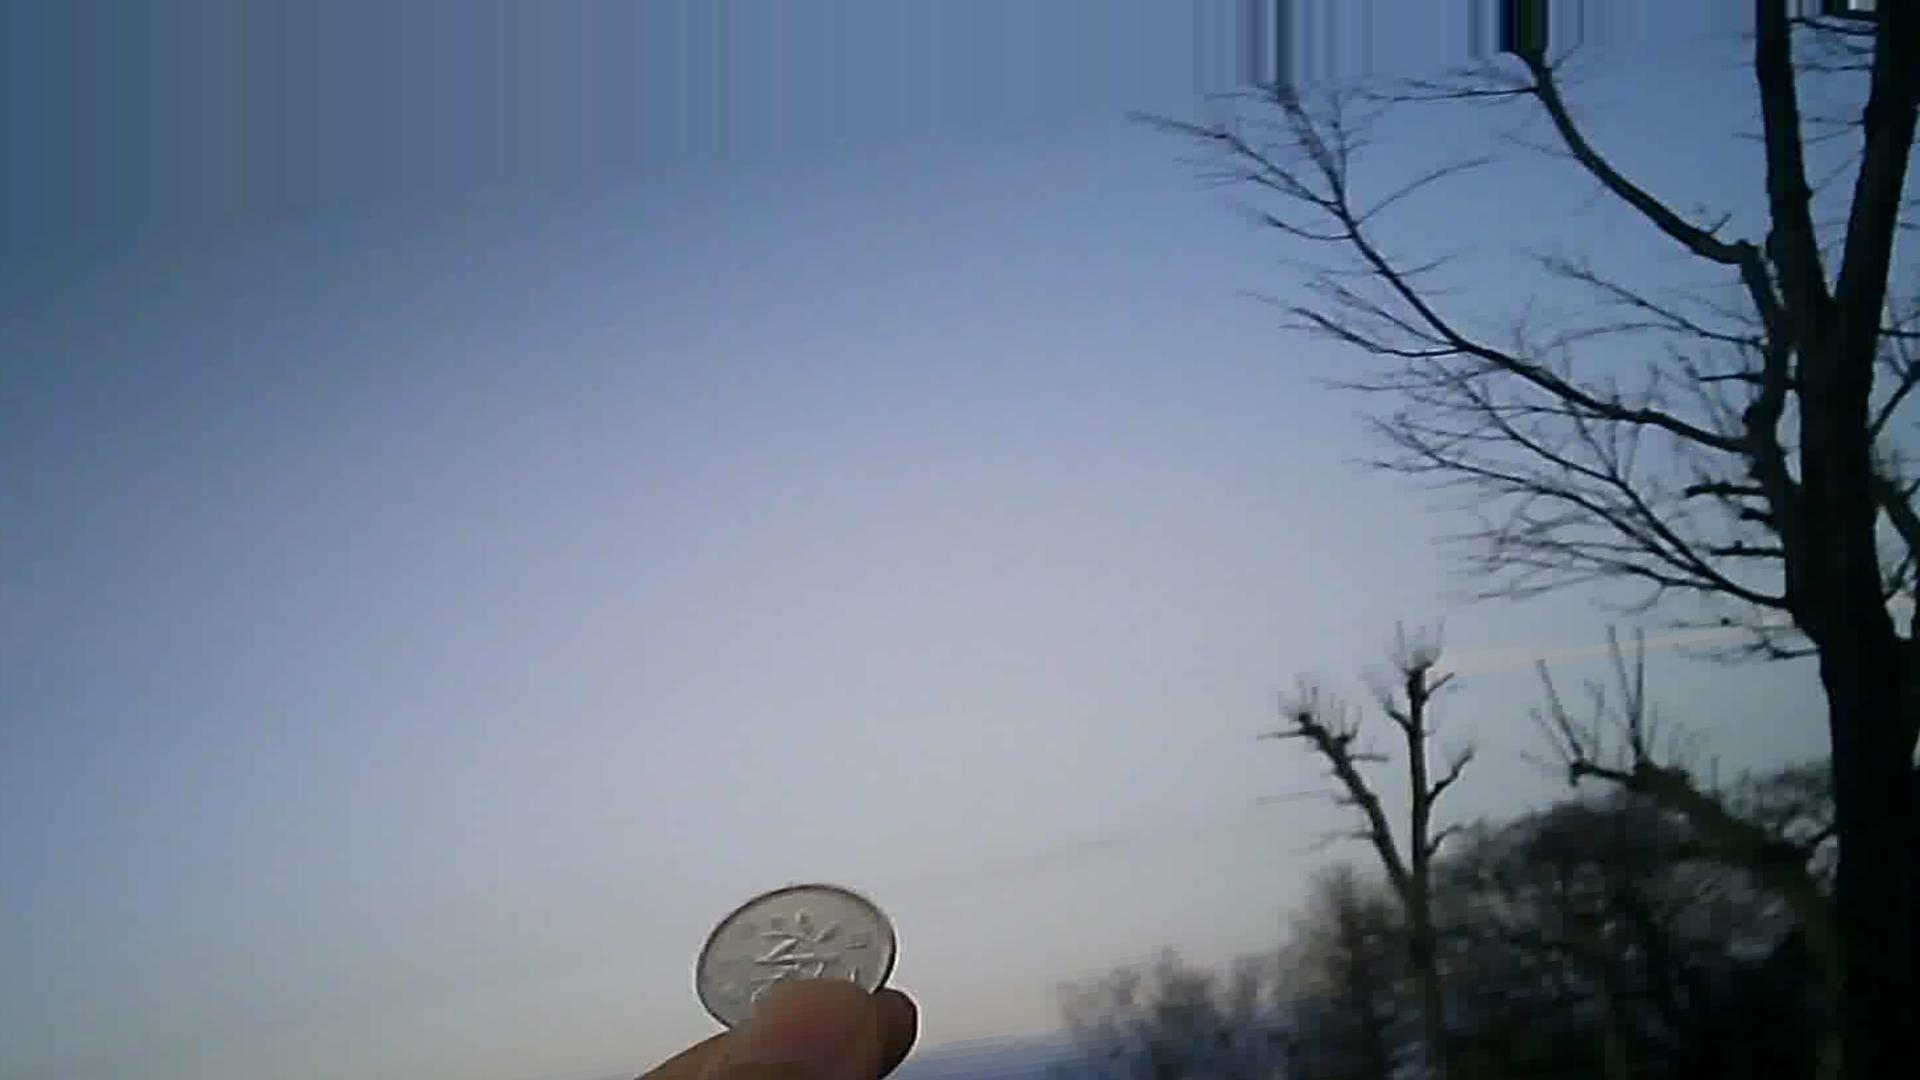1 Yen: (694, 880, 897, 1034)
